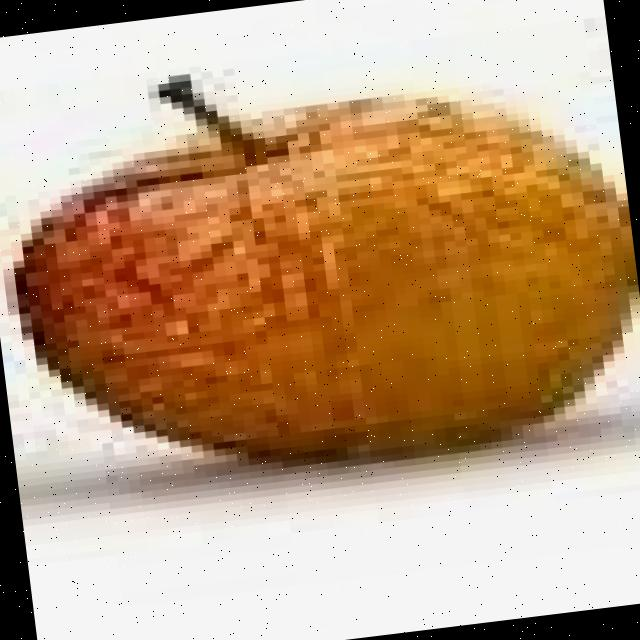overripe: (0, 61, 640, 512)
